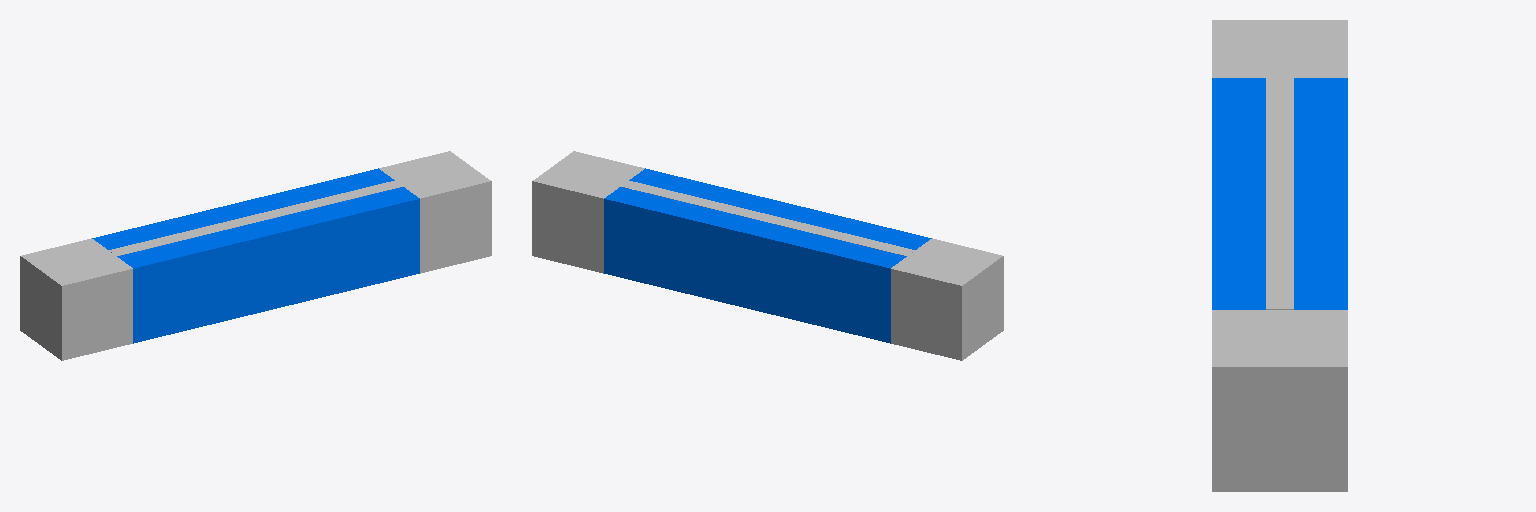
URDF robot description (snap_connector_3):
<?xml version="1.0"?>
<robot name="snap_connector_3">
    <!-- Middle plastic link is listed first as the 'base' reference link -->

        <link name="middle_plastic">
          <visual>
            <origin xyz="0 0 0" rpy="0 0 0" />
            <geometry>
              <box size="0.20000000000000004 0.05 0.05" />
            </geometry>
            <material name="middle_plastic_material">
              <color rgba="0.0 0.5 1.0 1.0"/>
            </material>
          </visual>
          <collision>
            <origin xyz="0 0 0" rpy="0 0 0" />
            <geometry>
              <box size="0.20000000000000004 0.05 0.05" />
            </geometry>
          </collision>
        </link>



        <link name="start_metal">
          <visual>
            <origin xyz="0 0 0" rpy="0 0 0" />
            <geometry>
              <box size="0.05 0.05 0.05" />
            </geometry>
            <material name="start_metal_material">
              <color rgba="0.8 0.8 0.8 1.0"/>
            </material>
          </visual>
          <collision>
            <origin xyz="0 0 0" rpy="0 0 0" />
            <geometry>
              <box size="0.05 0.05 0.05" />
            </geometry>
          </collision>
        </link>


        <link name="end_metal">
          <visual>
            <origin xyz="0 0 0" rpy="0 0 0" />
            <geometry>
              <box size="0.05 0.05 0.05" />
            </geometry>
            <material name="end_metal_material">
              <color rgba="0.8 0.8 0.8 1.0"/>
            </material>
          </visual>
          <collision>
            <origin xyz="0 0 0" rpy="0 0 0" />
            <geometry>
              <box size="0.05 0.05 0.05" />
            </geometry>
          </collision>
        </link>


        <link name="line">
          <visual>
            <origin xyz="0 0 0" rpy="0 0 0" />
            <geometry>
              <box size="0.20000000000000004 0.01 0.0001" />
            </geometry>
            <material name="line_material">
              <color rgba="0.8 0.8 0.8 1.0"/>
            </material>
          </visual>
          <collision>
            <origin xyz="0 0 0" rpy="0 0 0" />
            <geometry>
              <box size="0.20000000000000004 0.01 0.0001" />
            </geometry>
          </collision>
        </link>


    <!-- Fixed joints -->

        <joint name="start_metal_joint" type="fixed">
          <parent link="middle_plastic"/>
          <child link="start_metal"/>
          <origin xyz="-0.12500000000000003 0 0" rpy="0 0 0"/>
        </joint>


        <joint name="end_metal_joint" type="fixed">
          <parent link="middle_plastic"/>
          <child link="end_metal"/>
          <origin xyz="0.12500000000000003 0 0" rpy="0 0 0"/>
        </joint>


        <joint name="line_joint" type="fixed">
          <parent link="middle_plastic"/>
          <child link="line"/>
          <origin xyz="0 0 0.025050000000000003" rpy="0 0 0"/>
        </joint>

</robot>

--- Render facts (derived) ---
Views: 3 orthographic renders of the robot side by side, from view 1: azimuth 30°, elevation 25°; view 2: azimuth 150°, elevation 25°; view 3: azimuth 270°, elevation 25°.
Robot: snap_connector_3 — 4 links, 3 joints (3 fixed); root link middle_plastic; default pose: all joints at 0.
Visible links, largest first — view 1: middle_plastic, start_metal, end_metal, line; view 2: middle_plastic, start_metal, end_metal, line; view 3: middle_plastic, end_metal, start_metal, line.
Link boxes in pixels (box(x1,y1,x2,y2)): middle_plastic: box(92, 168, 419, 343); start_metal: box(20, 238, 132, 360); end_metal: box(379, 151, 491, 273); line: box(109, 181, 402, 255); middle_plastic: box(604, 168, 931, 343); start_metal: box(891, 238, 1003, 360); end_metal: box(532, 151, 644, 273); line: box(621, 181, 914, 255); middle_plastic: box(1212, 78, 1347, 309); end_metal: box(1212, 310, 1347, 491); start_metal: box(1212, 20, 1347, 77); line: box(1266, 78, 1293, 309).
Bounding box of the posed robot: 0.3 × 0.05 × 0.0501 m (x, y, z).
Geometry: primitives only (box / cylinder / sphere), no mesh files.